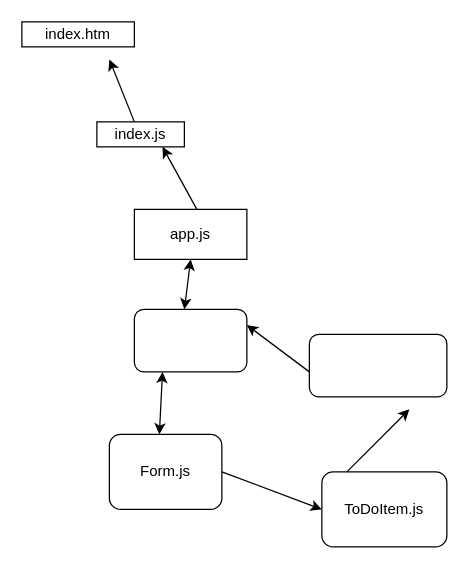
This 469x569 diagram has some shape labels left out. Each missing label, with the centre of its shape:
"ToDo.js" belongs at pixel 190 340.
"ToDoList.js" belongs at pixel 377 365.
